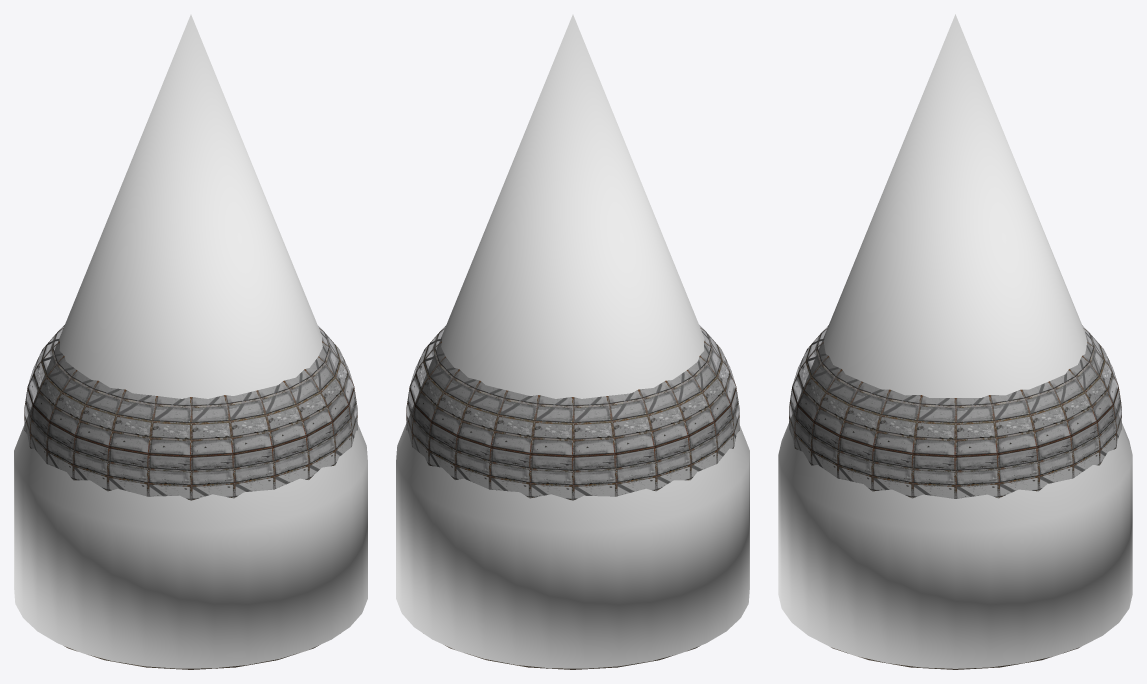
Rendered from Cheesepile.glb.
3 renders of one model, left to right at view 1: azimuth 30°, elevation 25°; view 2: azimuth 150°, elevation 25°; view 3: azimuth 270°, elevation 25°, orthographic.
Parts seen in each view (by area): view 1: Cylinder, Glass; view 2: Cylinder, Glass; view 3: Cylinder, Glass.
Part boxes in pixels (x1,y1,x2,y2): Cylinder: (14,14,367,668); Glass: (24,325,357,500); Cylinder: (396,14,749,668); Glass: (406,325,739,500); Cylinder: (778,14,1132,668); Glass: (789,325,1121,498).
Size of the model in its own units: 6.05 by 10.97 by 6.05.
Materials: 3 (3 with a texture image).
